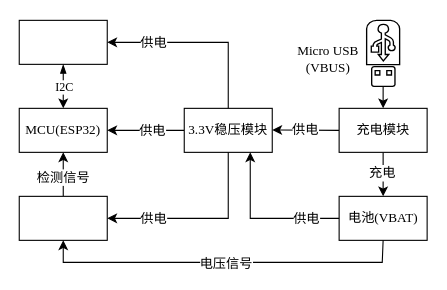
Some shapes in this 447 by 290 pixel diagram are drawn without their labels. Each missing label, with the centre of its shape:
"IMU(BNO055)" belongs at [62,41].
"电量检测模块" belongs at [62,217].
